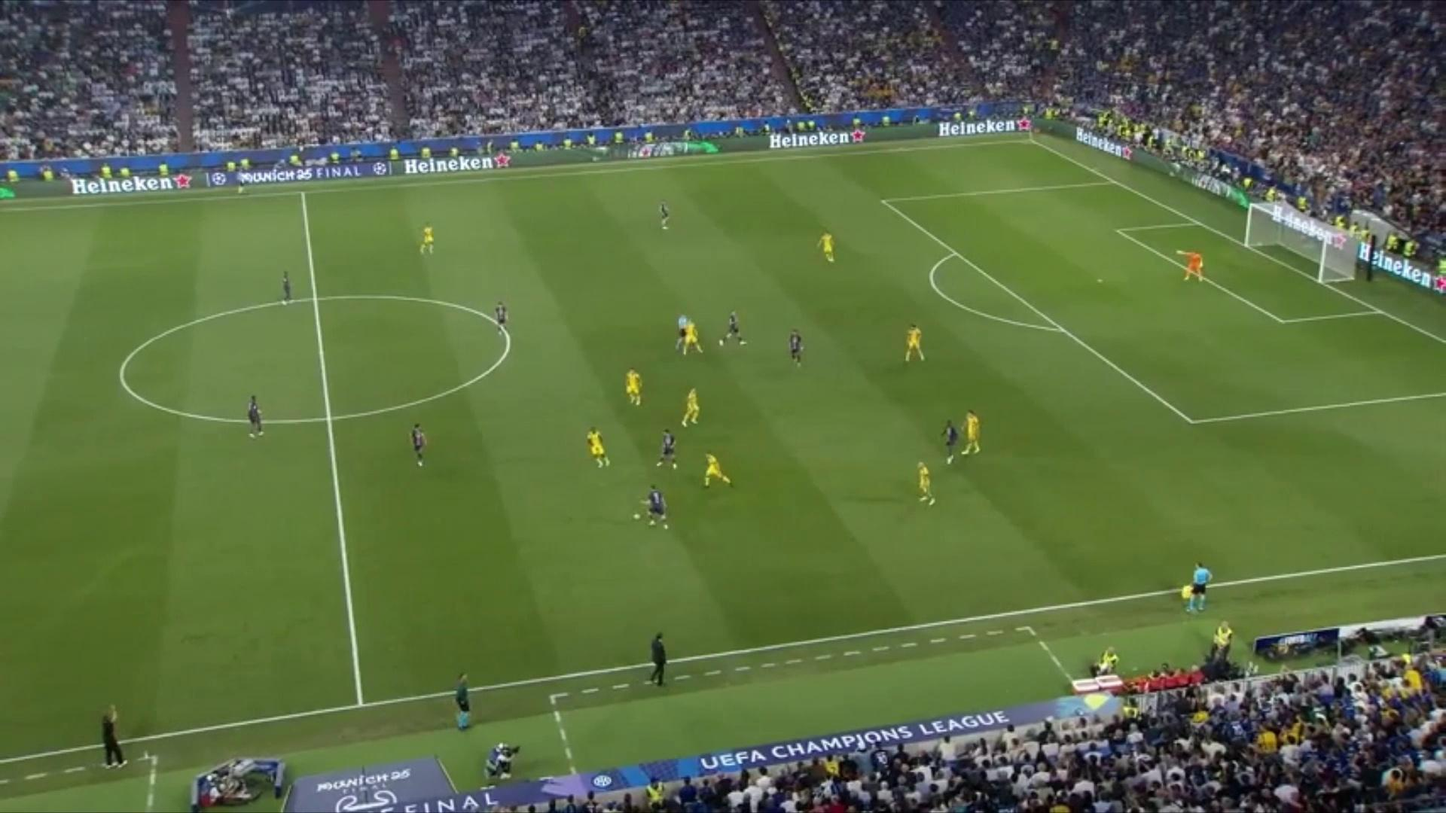ball: (633, 513, 639, 520)
player_A: (939, 420, 958, 465), (657, 430, 677, 468), (246, 396, 263, 439), (722, 311, 744, 344), (411, 423, 427, 464), (789, 330, 804, 365), (494, 302, 508, 332), (280, 271, 291, 303), (658, 202, 670, 230)
player_B: (702, 452, 731, 487), (960, 410, 981, 455), (586, 428, 609, 468), (680, 387, 700, 427), (905, 325, 925, 361), (916, 461, 932, 505), (683, 321, 702, 357), (624, 369, 642, 406), (817, 233, 834, 263), (419, 225, 434, 254)
player_B_goal_keeper: (1175, 250, 1203, 282)
referee: (1183, 561, 1211, 612), (454, 671, 470, 729), (676, 311, 692, 359), (235, 167, 246, 197)
